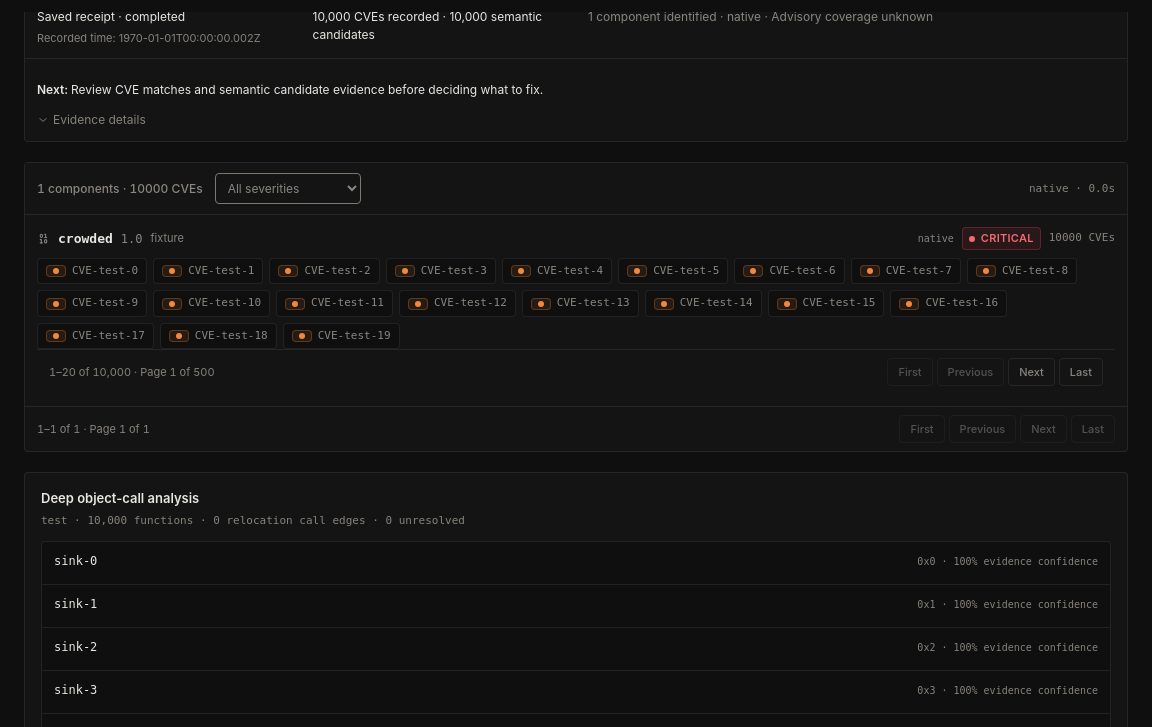
Test: large result pages › also bounds a single binary component with 10,000 CVEs and 10,000 semantic findings
(page scrolled)
Expected: the text "crowded" is shown, top-left (58, 229), bottom-right (113, 248)
What coordinates should you click on to do the following:
click the button named "Last page of CVEs for crowded 1.0"
I would click on:
 (1081, 372)
Its box is top-left (1059, 358), bottom-right (1103, 386).
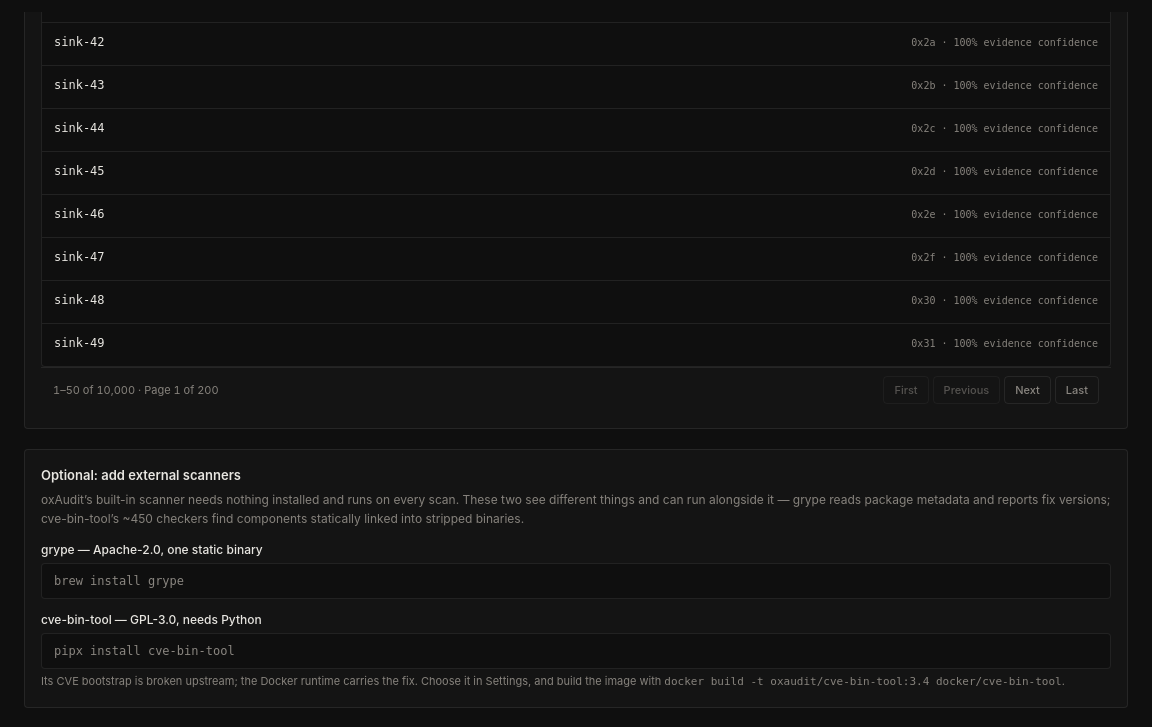
What coordinates should you click on to do the following:
click the button named "Last page of semantic findings"
I would click on:
 (1077, 390)
Its box is top-left (1055, 376), bottom-right (1099, 404).
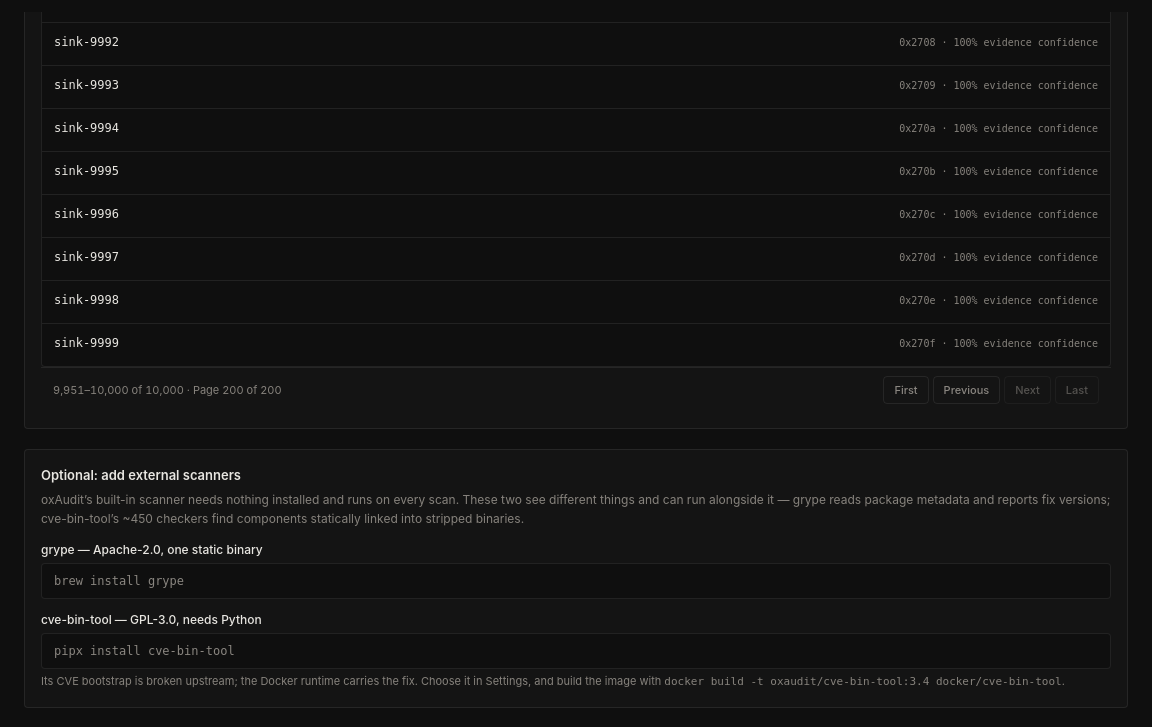
Expected: the text "sink-9999" is shown, top-left (54, 334), bottom-right (119, 352)
